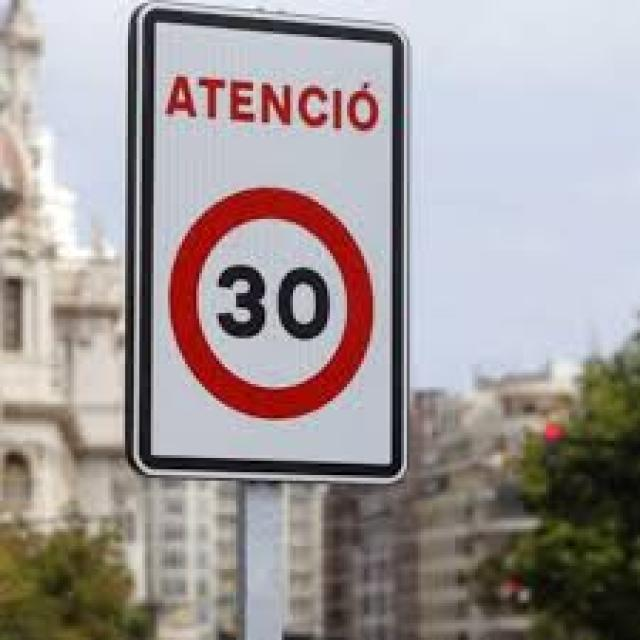Speed limit 30: (166, 183, 376, 422)
